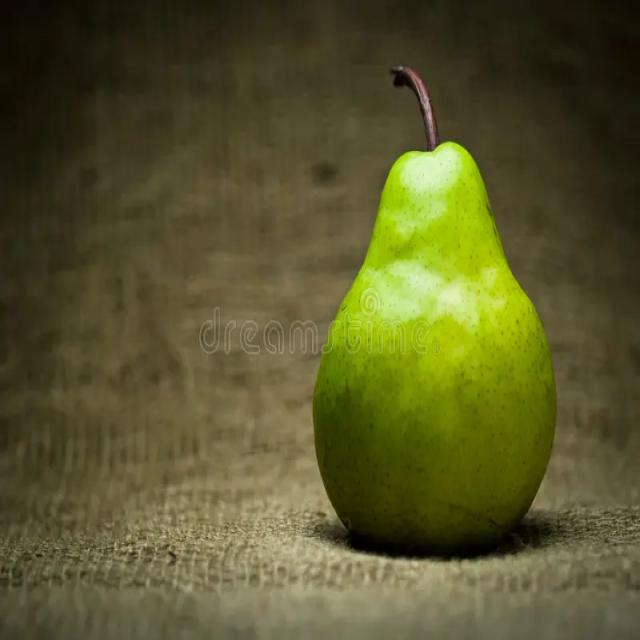pear: (314, 64, 556, 553)
